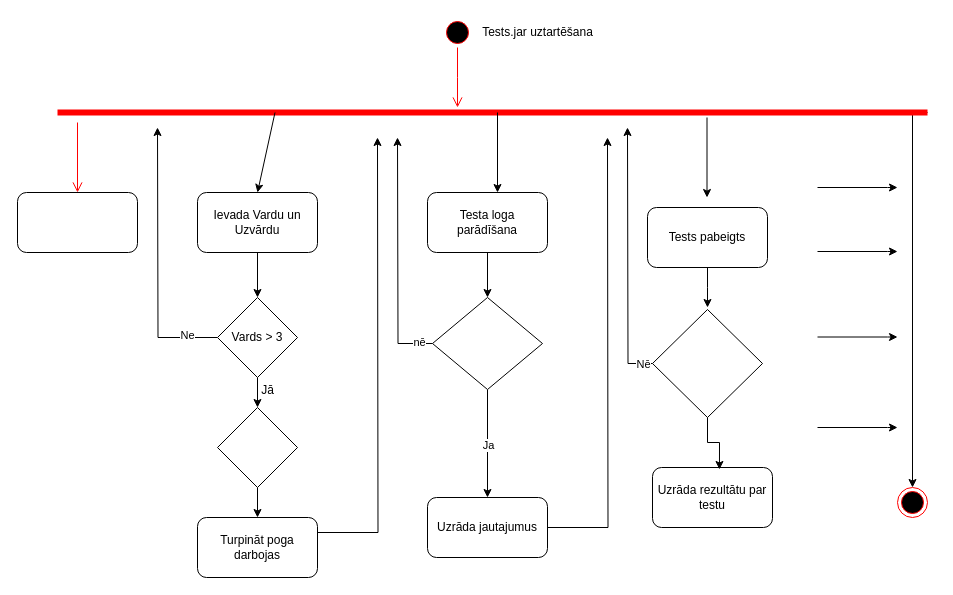
This 953x595 diagram has some shape labels left out. The shapes that lost their labels are listed below. From the top down, each one's centre as x and y in pixels, then its label:
pixel 77 222: Info logs
pixel 487 343: Turpināt == true
pixel 707 363: jautājumi == 10
pixel 257 447: Uzvārds > 3
